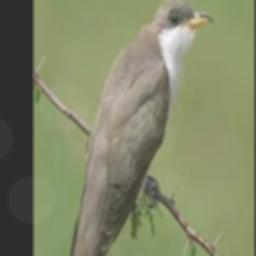Cuckoo: (64, 0, 213, 256)
